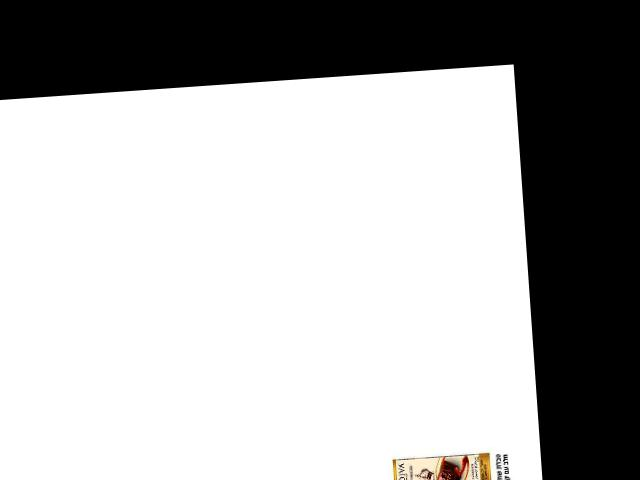chocolate: (390, 449, 495, 480)
